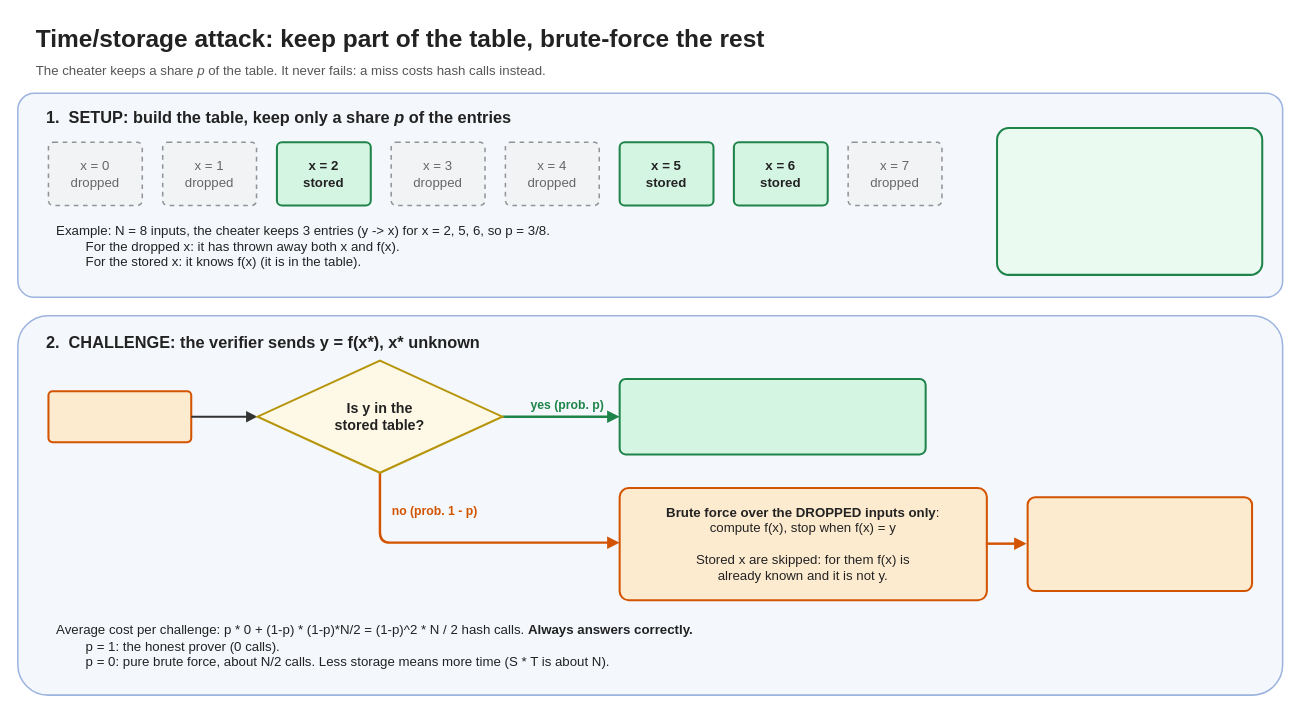
Some shapes in this 1302 by 713 pixel diagram are drawn without their labels. The shapes that lost their labels are listed below. From the top down, each one's centre as x and y in pixels, then its label:
At point (1129, 200): "Storage: p * N entries (honest prover: N entries)".
At point (119, 416): "challenge y".
At point (772, 416): "Return the stored x 0 hash calls".
At point (1139, 544): "Return x up to (1-p)*N hash calls".
